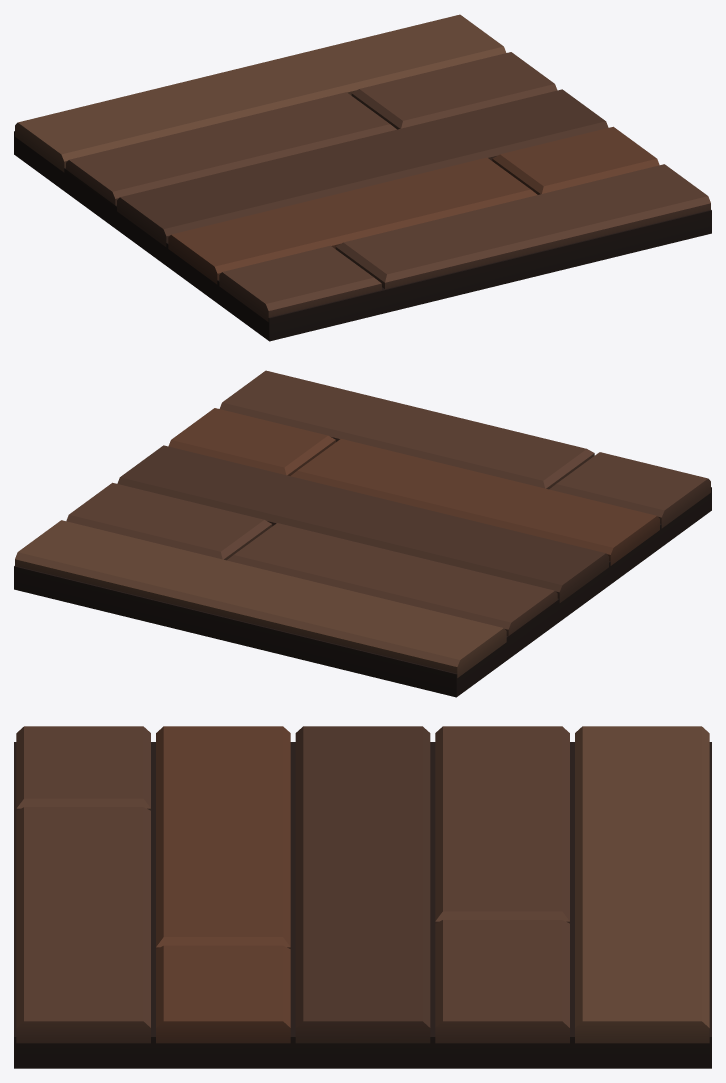
The model's file is floor_planks_dark_small_A.glb.
The picture shows the model from 3 angles, top to bottom: view 1: azimuth 30°, elevation 25°; view 2: azimuth 150°, elevation 25°; view 3: azimuth 270°, elevation 25°; orthographic projection. The views are drawn at different scales.
Visible parts, largest first — view 1: Item; view 2: Item; view 3: Item.
Boxes of the visible parts, left/top/right/bottom form: Item: left=14, top=14, right=711, bottom=341; Item: left=14, top=370, right=711, bottom=697; Item: left=14, top=726, right=711, bottom=1068.
Size of the model in its own units: 2 by 0.15 by 2.
Materials: 1 (1 with a texture image).
